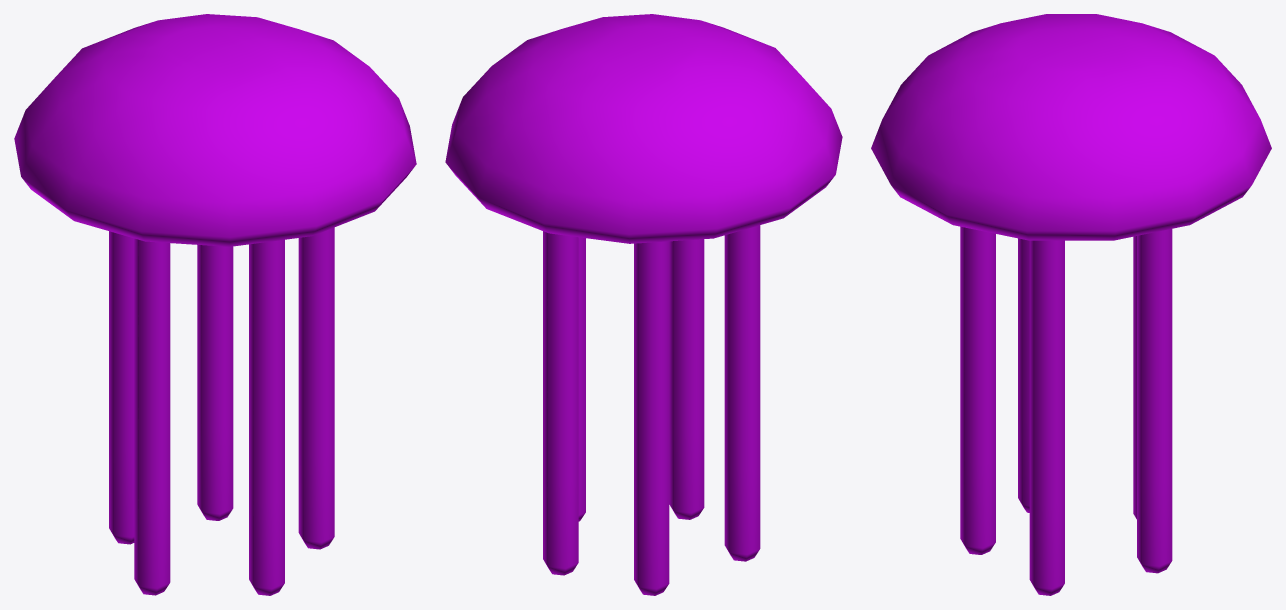
Rendered from SM_Jellyfish.fbx.
The picture shows the model from 3 angles, left to right: view 1: azimuth 30°, elevation 25°; view 2: azimuth 150°, elevation 25°; view 3: azimuth 270°, elevation 25°; orthographic projection.
Parts seen in each view (by area): view 1: SM_Jellyfish; view 2: SM_Jellyfish; view 3: SM_Jellyfish.
Part boxes in pixels (x1,y1,x2,y2): SM_Jellyfish: (14,14,416,595); SM_Jellyfish: (445,14,842,595); SM_Jellyfish: (871,14,1271,595).
Bounding box in the file's own units: 1.82 × 2.57 × 1.87.
